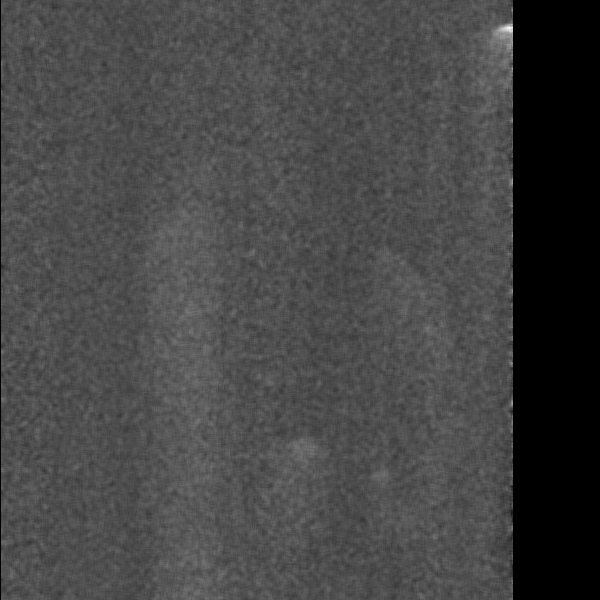spark: (269, 433, 322, 482), (360, 462, 400, 493), (497, 21, 516, 59)
